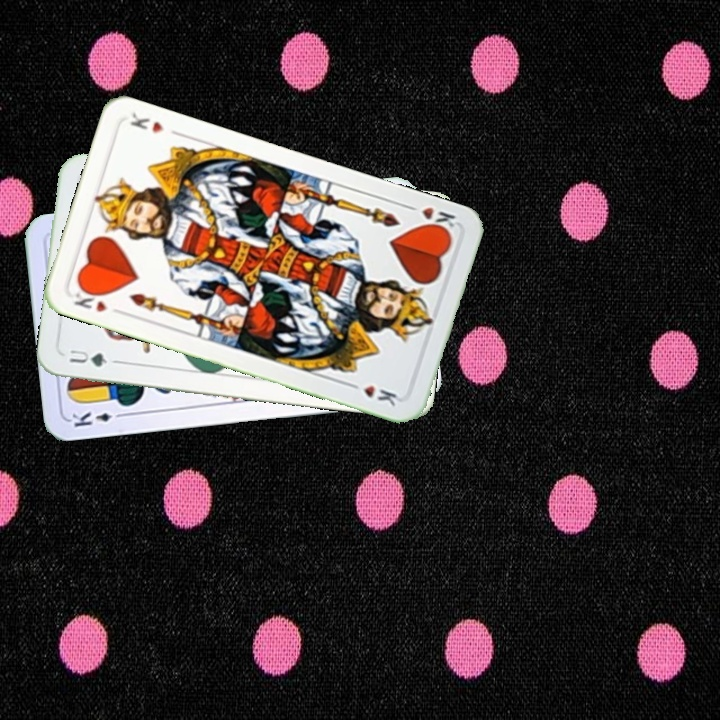EK: (68, 408, 127, 430)
GU: (65, 345, 110, 370)
HK: (402, 200, 458, 236), (70, 283, 125, 318)
